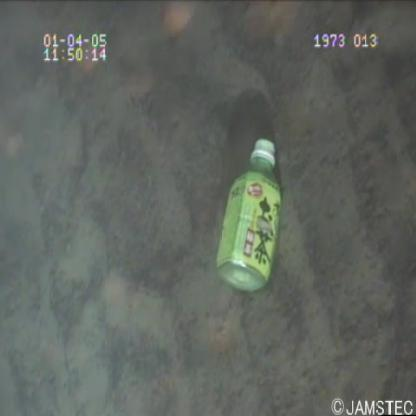Rác: (211, 132, 288, 297)
